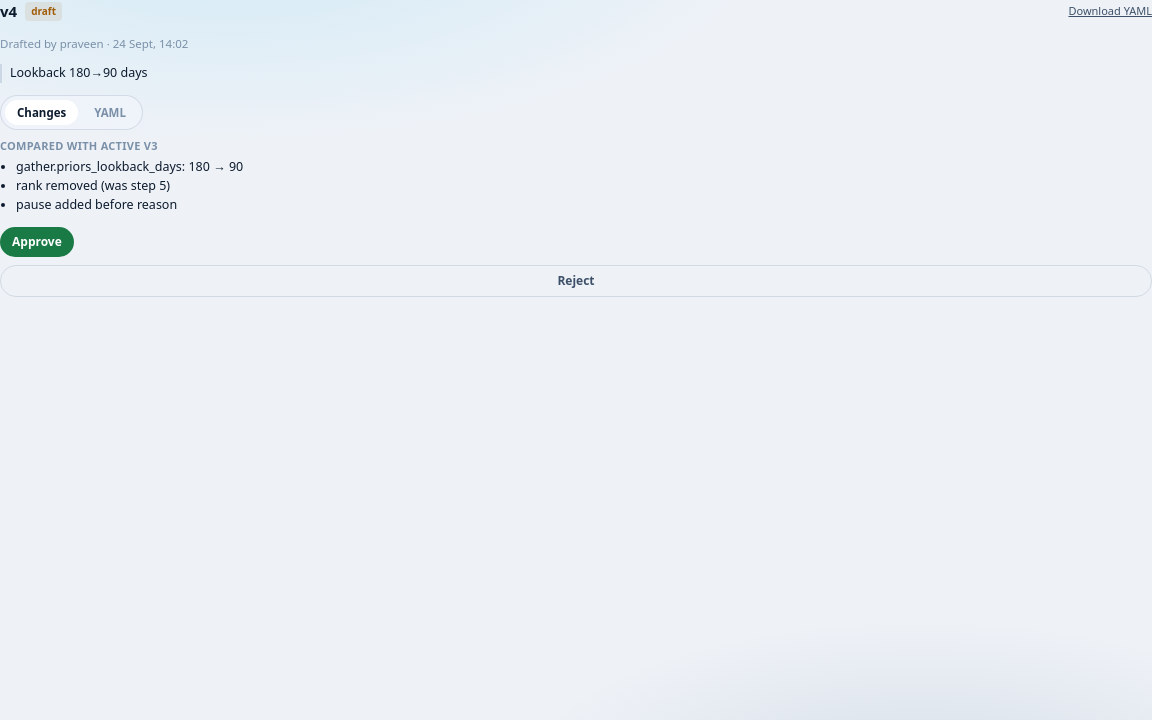
Test: VersionDetail › cannot be cancelled while the approval request is in flight
Later steps or results of the test are not shown.
Click the button "Approve". click: (37, 242)
box: [0,226,74,256]
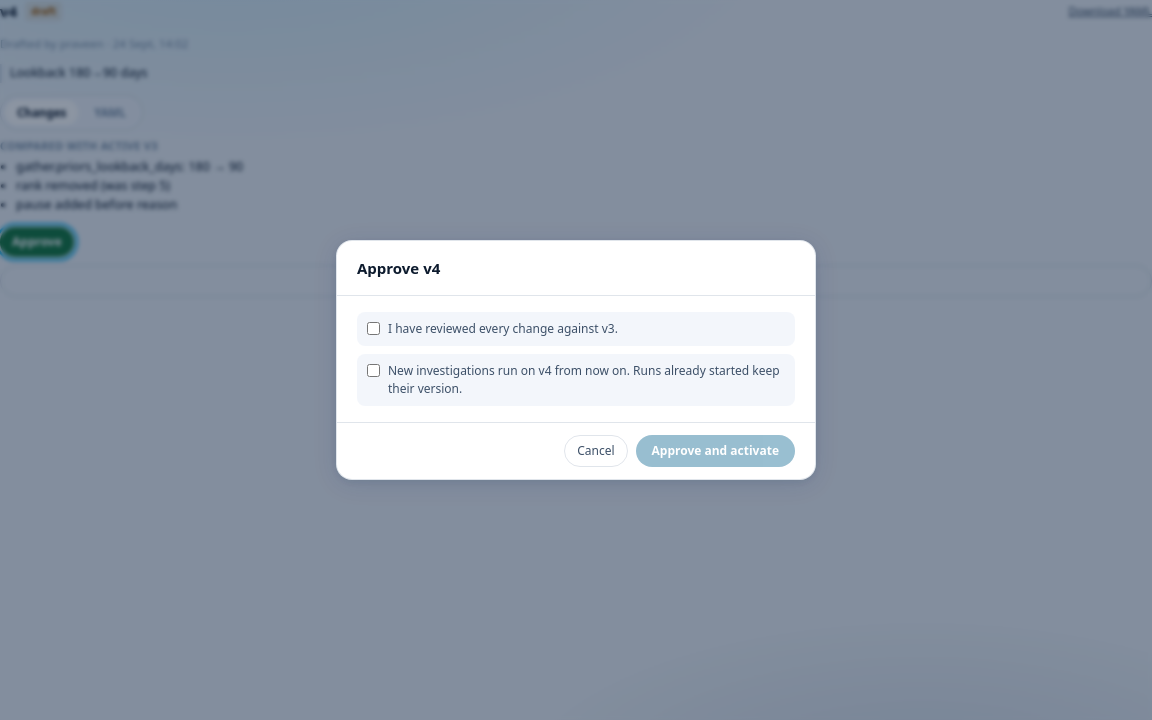
Click the checkbox labelled "I have reviewed every change against v3.". click: (374, 329)
box: [367,322,380,335]
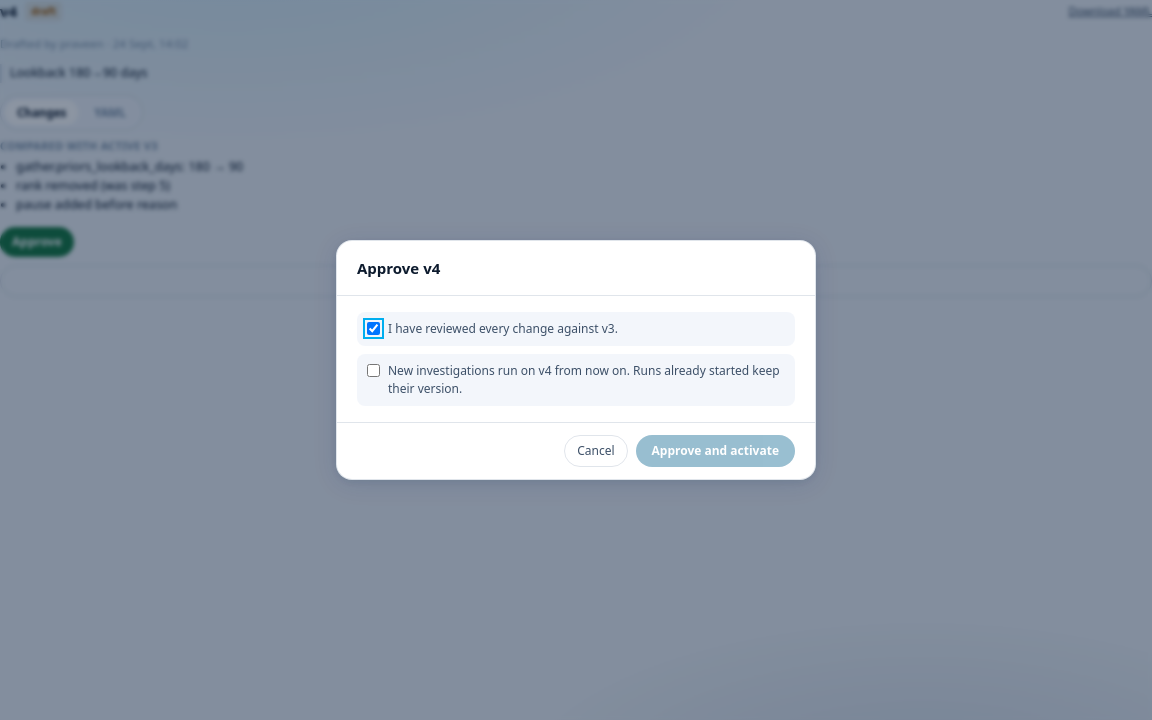
Click the 2nd checkbox. click: (374, 371)
box: [367,364,380,377]
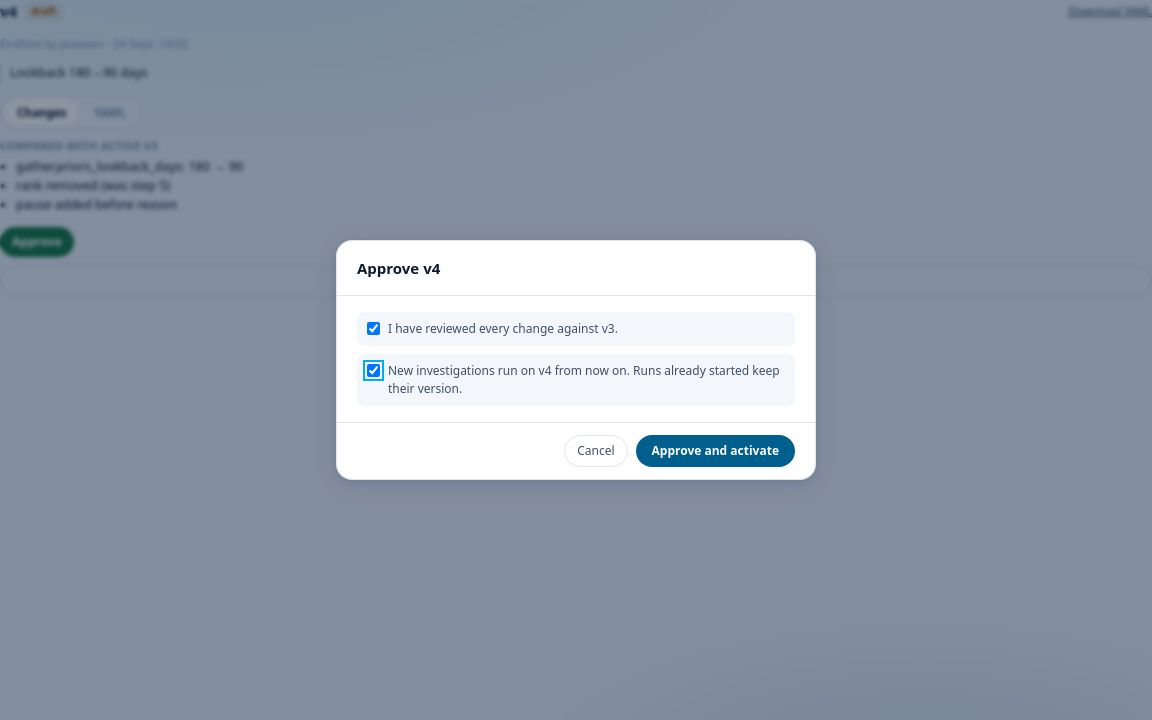
Click the button "Approve and activate". click: (715, 451)
box: [636,435,795,467]
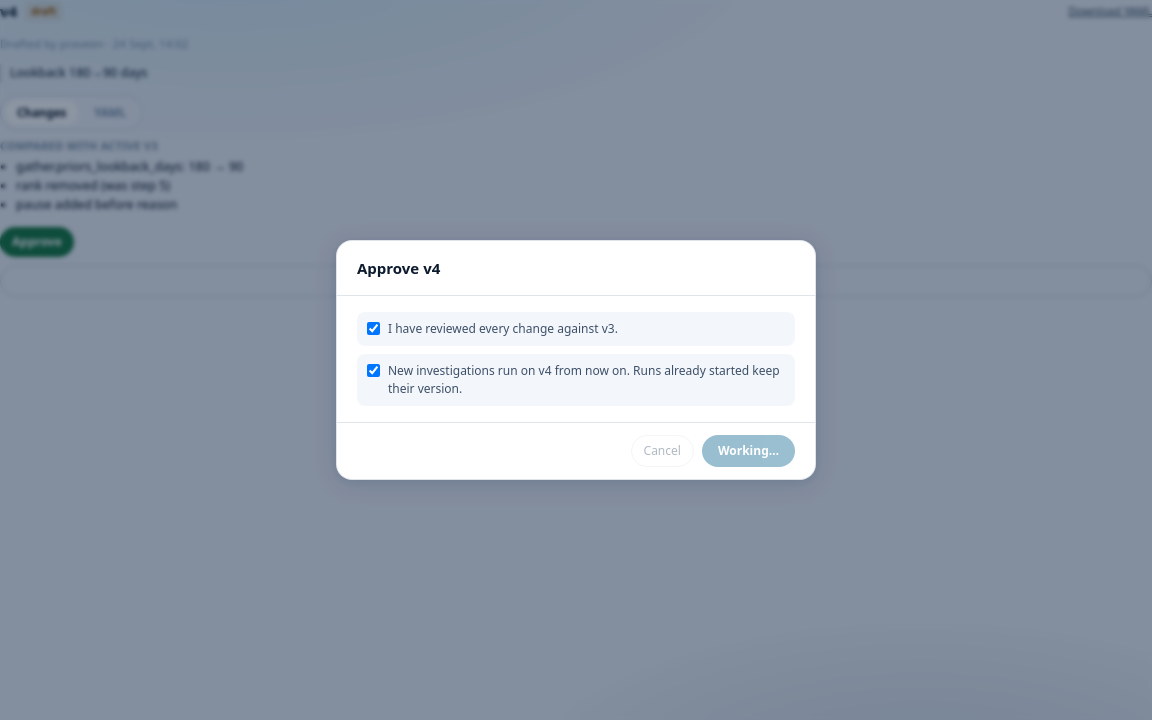
Now the button "Cancel" is disabled, box [630,435,694,467]
